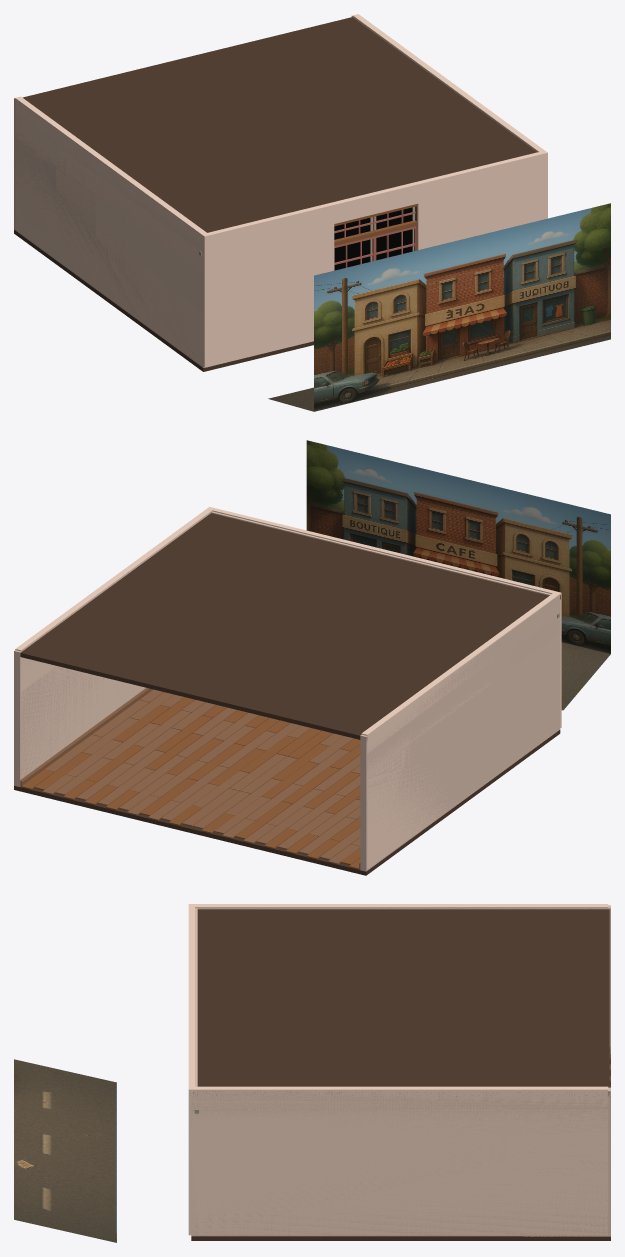
Rendered from StoreScene.fbx.
The picture shows the model from 3 angles, top to bottom: view 1: azimuth 30°, elevation 25°; view 2: azimuth 150°, elevation 25°; view 3: azimuth 270°, elevation 25°; orthographic projection. The views are drawn at different scales.
Visible parts, largest first — view 1: _16__1__003, Wall_Doors, Plane_1, _29_003_1, _16_003, Plane, Plane_001, _5_002; view 2: _16__1__003, _212_004, Plane_1, _29_003_1, Wall_Doors, _16_003, _212_005; view 3: _16__1__003, Wall_Doors, _29_003_1, Plane_1, _16_003.
Boxes of the visible parts, x1,y1,x2,y2 form: _16__1__003: (22, 17, 536, 232); Wall_Doors: (15, 14, 547, 367); Plane_1: (268, 203, 610, 411); _29_003_1: (14, 15, 537, 367); _16_003: (14, 230, 313, 371); Plane: (376, 207, 412, 259); Plane_001: (334, 218, 370, 270); _5_002: (334, 204, 417, 250); _16__1__003: (20, 513, 560, 739); _212_004: (21, 689, 360, 869); Plane_1: (306, 440, 610, 710); _29_003_1: (14, 511, 560, 871); Wall_Doors: (15, 507, 561, 869); _16_003: (14, 730, 560, 875); _212_005: (20, 688, 360, 869); _16__1__003: (193, 909, 609, 1096); Wall_Doors: (188, 904, 608, 1235); _29_003_1: (191, 905, 610, 1236); Plane_1: (14, 1059, 116, 1242); _16_003: (191, 1054, 610, 1240).
Bounding box in the file's own units: 4631 × 2017 × 6264.
Materials: 24 (2 with a texture image).
